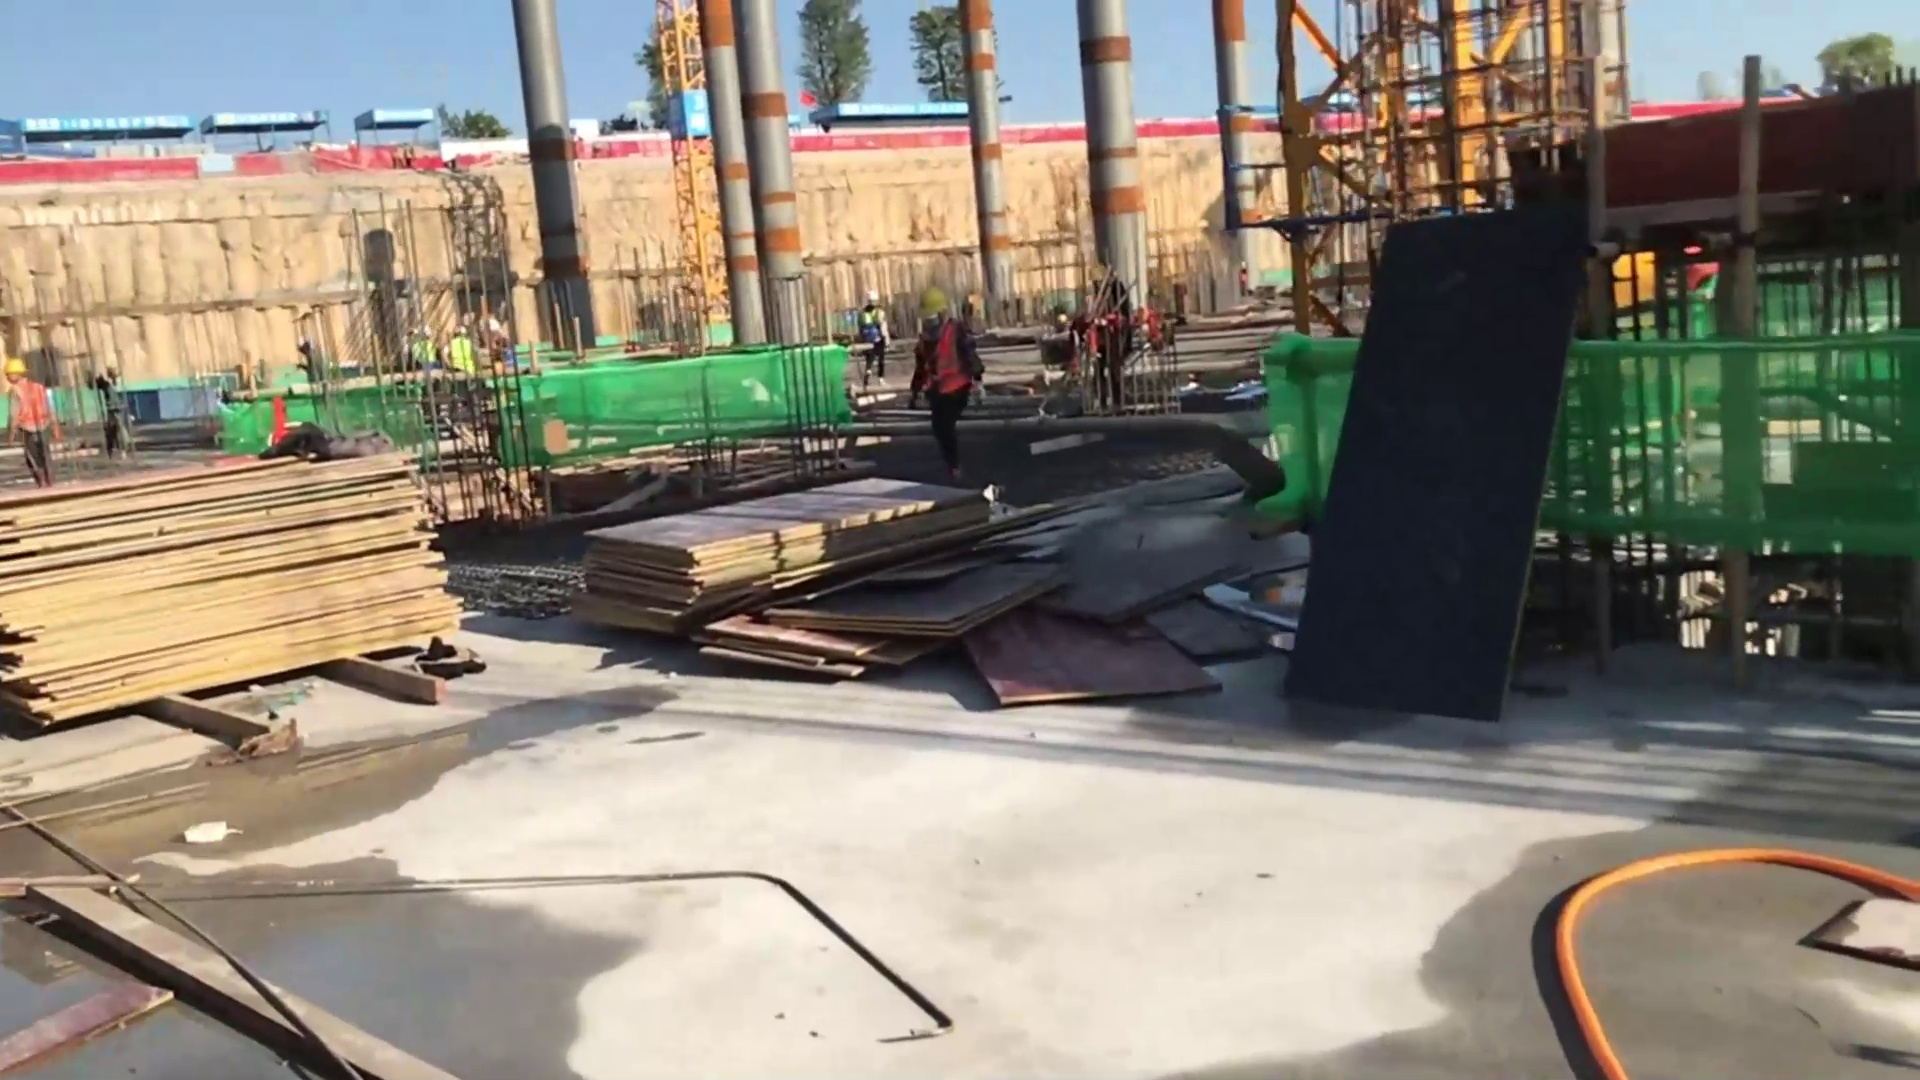board: (586, 487, 1190, 706), (1, 457, 470, 731)
helmet: (921, 288, 947, 312), (6, 359, 27, 372)
person: (914, 283, 984, 477), (2, 357, 61, 483), (860, 290, 889, 382), (448, 326, 475, 375), (411, 328, 434, 369)
vest: (919, 326, 962, 396)
